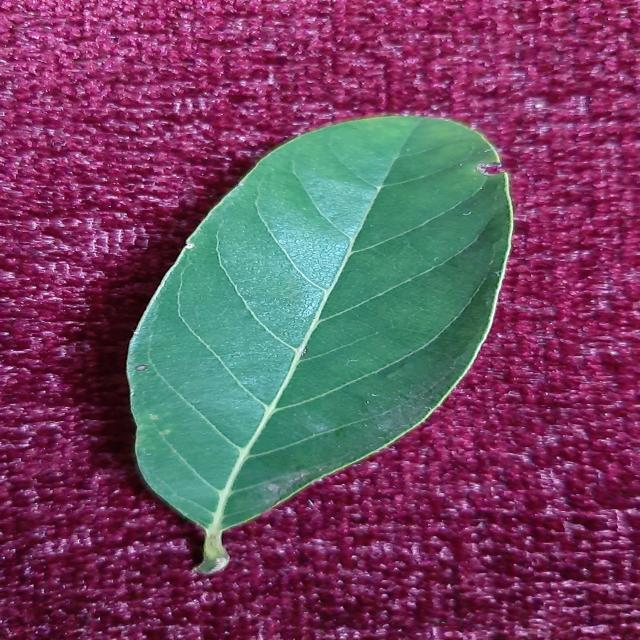seethaphala: (127, 116, 512, 574)
